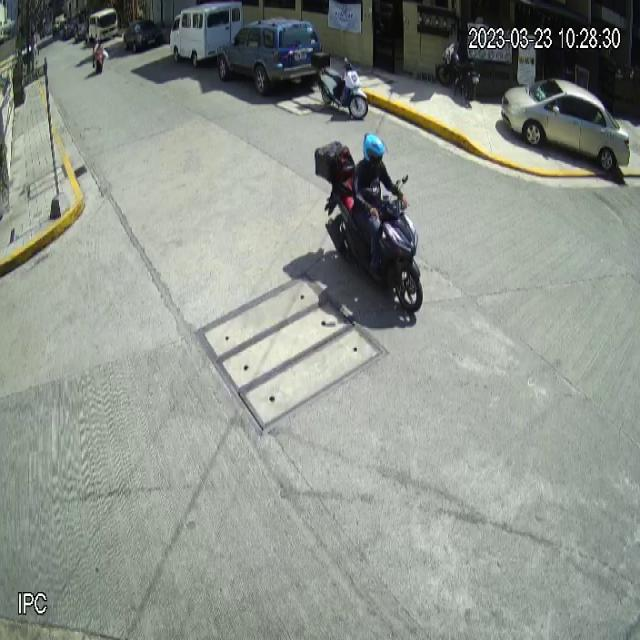Car: (501, 76, 631, 172), (217, 18, 323, 95)
Motorcycle: (324, 175, 426, 318), (311, 50, 368, 120)
Van: (169, 1, 243, 68)
